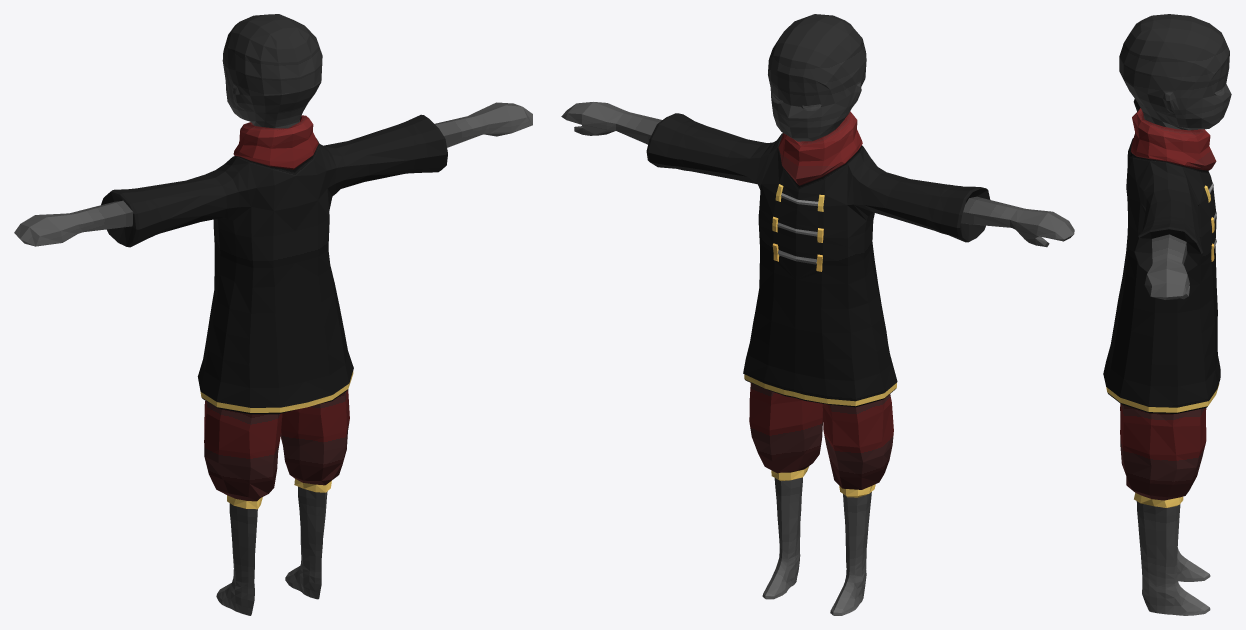
The model's file is CharSkyKid_Body_AP09Uniform_01.glb.
The picture shows the model from 3 angles, left to right: view 1: azimuth 30°, elevation 25°; view 2: azimuth 150°, elevation 25°; view 3: azimuth 270°, elevation 25°; orthographic projection.
Parts seen in each view (by area): view 1: CharSkyKid_Body_AP09Uniform_01; view 2: CharSkyKid_Body_AP09Uniform_01; view 3: CharSkyKid_Body_AP09Uniform_01.
Part boxes in pixels (box(x1,y1,x2,y2)): CharSkyKid_Body_AP09Uniform_01: box(14, 14, 532, 615); CharSkyKid_Body_AP09Uniform_01: box(561, 14, 1074, 615); CharSkyKid_Body_AP09Uniform_01: box(1103, 14, 1231, 615).
Bounding box in the file's own units: 13.84 × 14.94 × 3.02.
1 material, 1 textured.
